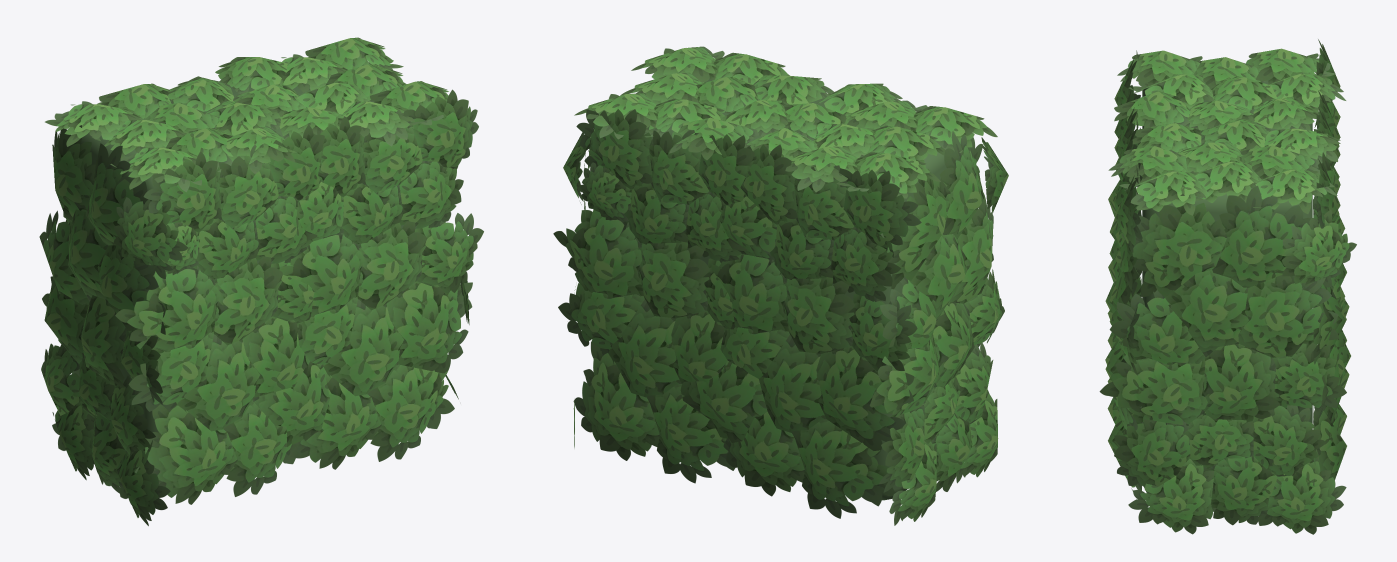
Rendered from hedge.glb.
3 renders of one model, left to right at view 1: azimuth 30°, elevation 25°; view 2: azimuth 150°, elevation 25°; view 3: azimuth 270°, elevation 25°, orthographic. The views are drawn at different scales.
Parts seen in each view (by area): view 1: Bush_2x2; view 2: Bush_2x2; view 3: Bush_2x2.
Boxes of the visible parts, x1,y1,x2,y2 form: Bush_2x2: (39, 37, 483, 525); Bush_2x2: (553, 46, 1008, 525); Bush_2x2: (1099, 39, 1356, 534).
Size of the model in its own units: 1.33 by 1.2 by 0.8748.
Materials: 1 (1 with a texture image).
